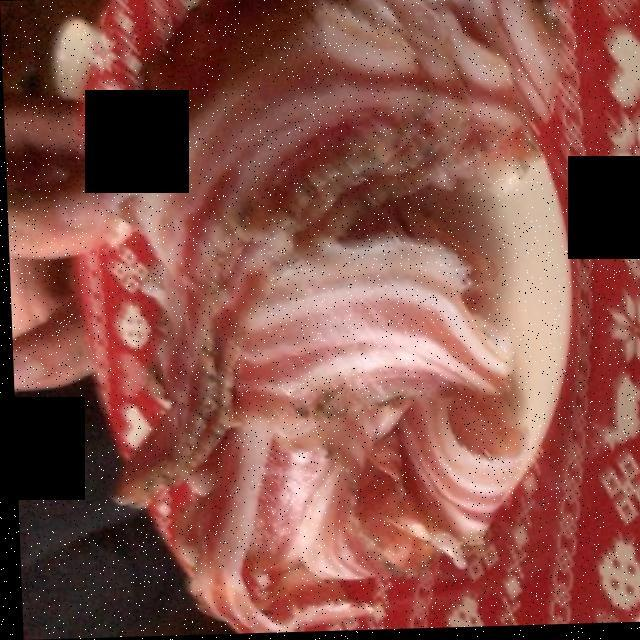bacon: (52, 19, 553, 611)
